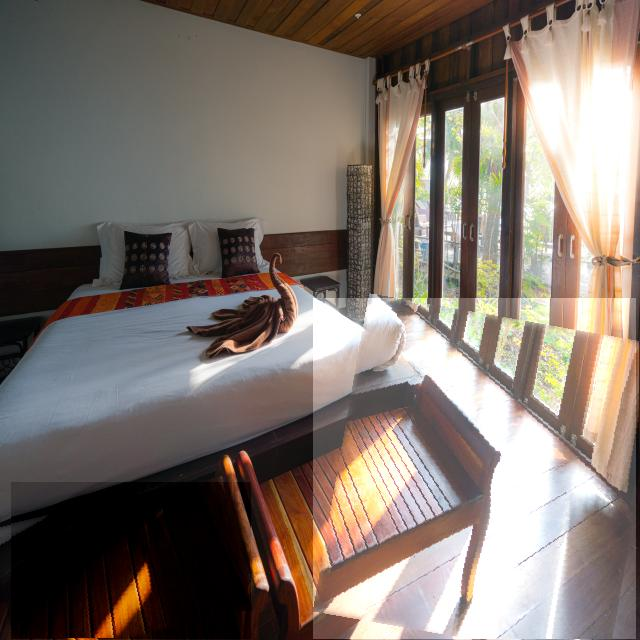floor: (314, 298, 636, 640), (11, 483, 251, 639)
